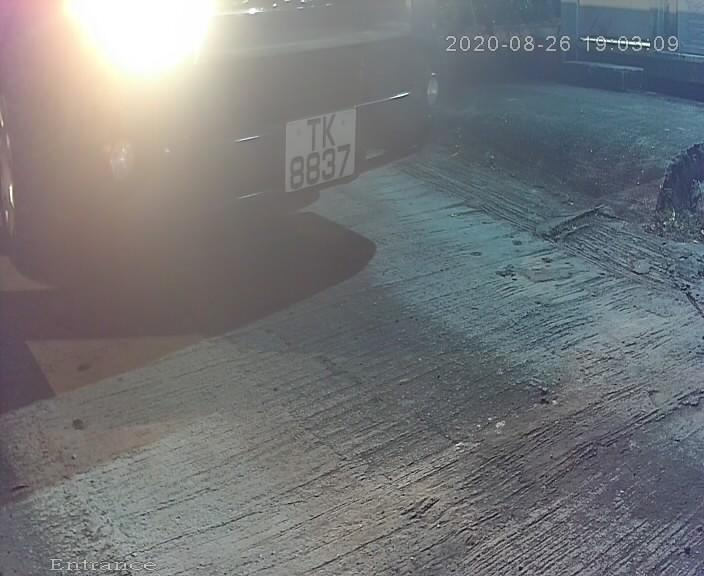License Plate: (271, 85, 371, 204)
